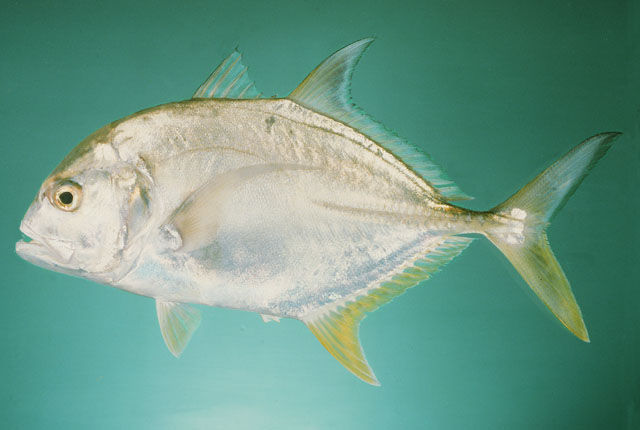fish: (15, 38, 620, 388)
